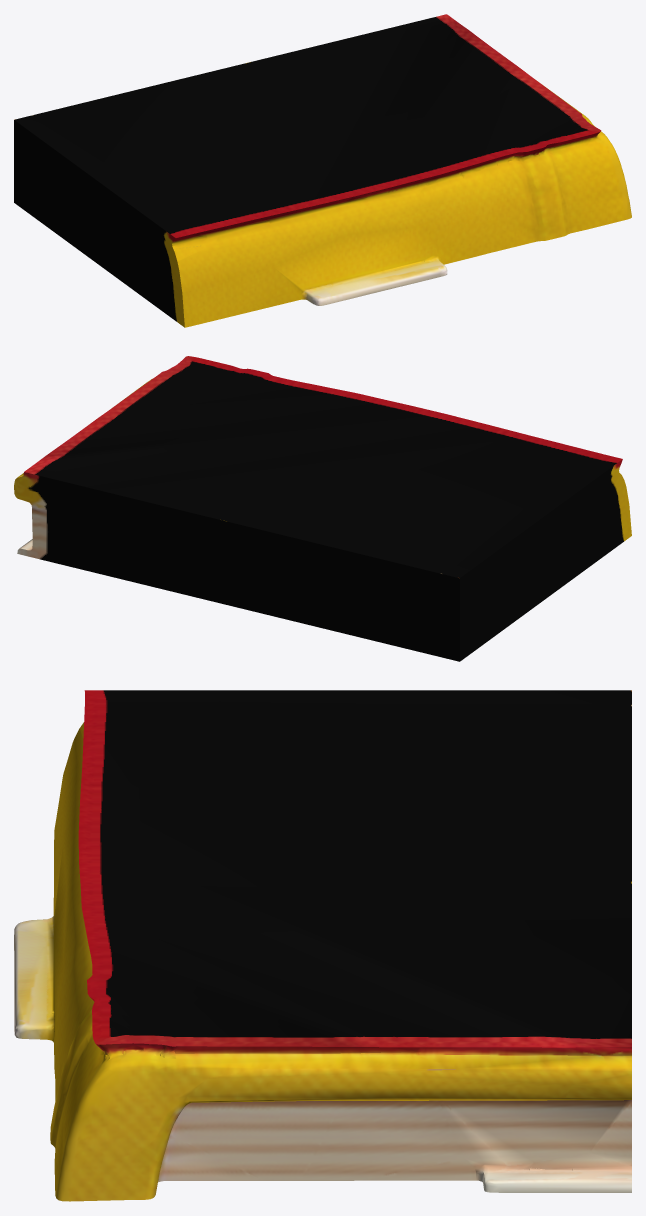
Rendered from 10-roof-front-right.fbx.
3 renders of one model, top to bottom at view 1: azimuth 30°, elevation 25°; view 2: azimuth 150°, elevation 25°; view 3: azimuth 270°, elevation 25°, orthographic. The views are drawn at different scales.
Visible parts, largest first — view 1: roof-front-right; view 2: roof-front-right; view 3: roof-front-right.
Part boxes in pixels (<box>): roof-front-right: <box>14,14,631,327</box>; roof-front-right: <box>14,356,631,661</box>; roof-front-right: <box>14,690,631,1201</box>.
Size of the model in its own units: 4290 by 756 by 3021.
1 material, 1 textured.
